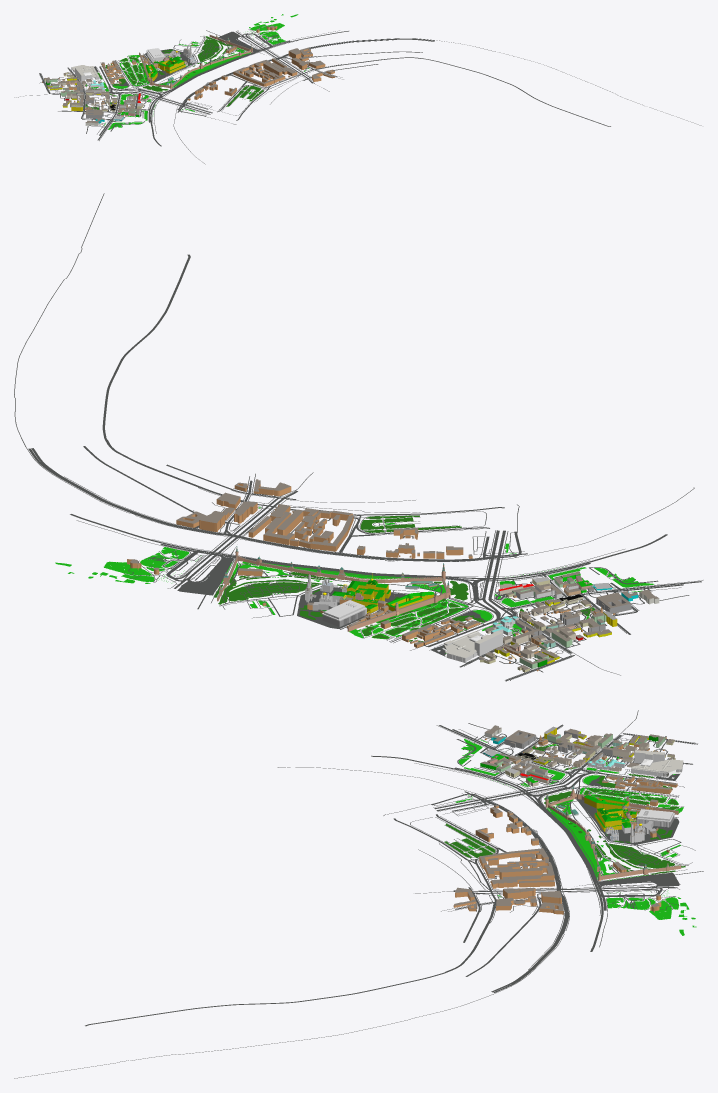
File: moscow.fbx
3 views of the same model, one above another, from view 1: azimuth 30°, elevation 25°; view 2: azimuth 150°, elevation 25°; view 3: azimuth 270°, elevation 25° (orthographic). The views are drawn at different scales.
Parts seen in each view (by area): view 1: map.osm_buildings, map.osm_paths_footway, map.osm_vegetation, map.osm_forest, map.osm_roads_secondary, map.osm_roads_tertiary, map.osm_roads_service, map.osm_roads_primary, map.osm_areas_pedestrian, map.osm_roads_unclassified; view 2: map.osm_buildings, map.osm_paths_footway, map.osm_vegetation, map.osm_roads_secondary, map.osm_forest, map.osm_roads_tertiary, map.osm_roads_service, map.osm_areas_pedestrian, map.osm_roads_primary; view 3: map.osm_buildings, map.osm_paths_footway, map.osm_vegetation, map.osm_roads_secondary, map.osm_forest, map.osm_roads_service, map.osm_roads_tertiary, map.osm_areas_pedestrian, map.osm_roads_primary.
Boxes of the visible parts, box(x1,y1,x2,y2) form: map.osm_buildings: box(42, 25, 335, 125); map.osm_paths_footway: box(14, 25, 701, 164); map.osm_vegetation: box(86, 14, 308, 129); map.osm_forest: box(71, 36, 263, 109); map.osm_roads_secondary: box(97, 31, 434, 146); map.osm_roads_tertiary: box(118, 31, 610, 126); map.osm_roads_service: box(39, 30, 308, 133); map.osm_roads_primary: box(53, 40, 289, 114); map.osm_areas_pedestrian: box(94, 31, 257, 86); map.osm_roads_unclassified: box(39, 55, 302, 121); map.osm_buildings: box(127, 479, 659, 672); map.osm_paths_footway: box(14, 193, 703, 680); map.osm_vegetation: box(55, 507, 654, 653); map.osm_roads_secondary: box(28, 448, 701, 616); map.osm_forest: box(213, 515, 594, 644); map.osm_roads_tertiary: box(83, 254, 566, 597); map.osm_roads_service: box(149, 495, 689, 672); map.osm_areas_pedestrian: box(177, 557, 486, 655); map.osm_roads_primary: box(160, 530, 572, 653); map.osm_buildings: box(453, 725, 683, 914); map.osm_paths_footway: box(14, 710, 695, 1078); map.osm_vegetation: box(455, 739, 696, 935); map.osm_roads_secondary: box(371, 725, 662, 992); map.osm_forest: box(444, 744, 685, 874); map.osm_roads_service: box(456, 723, 703, 908); map.osm_roads_tertiary: box(85, 763, 677, 1026); map.osm_areas_pedestrian: box(577, 774, 679, 886); map.osm_roads_primary: box(434, 735, 670, 910).
Size of what is drawn, in the model's own units: 301346 by 7400 by 238476.
